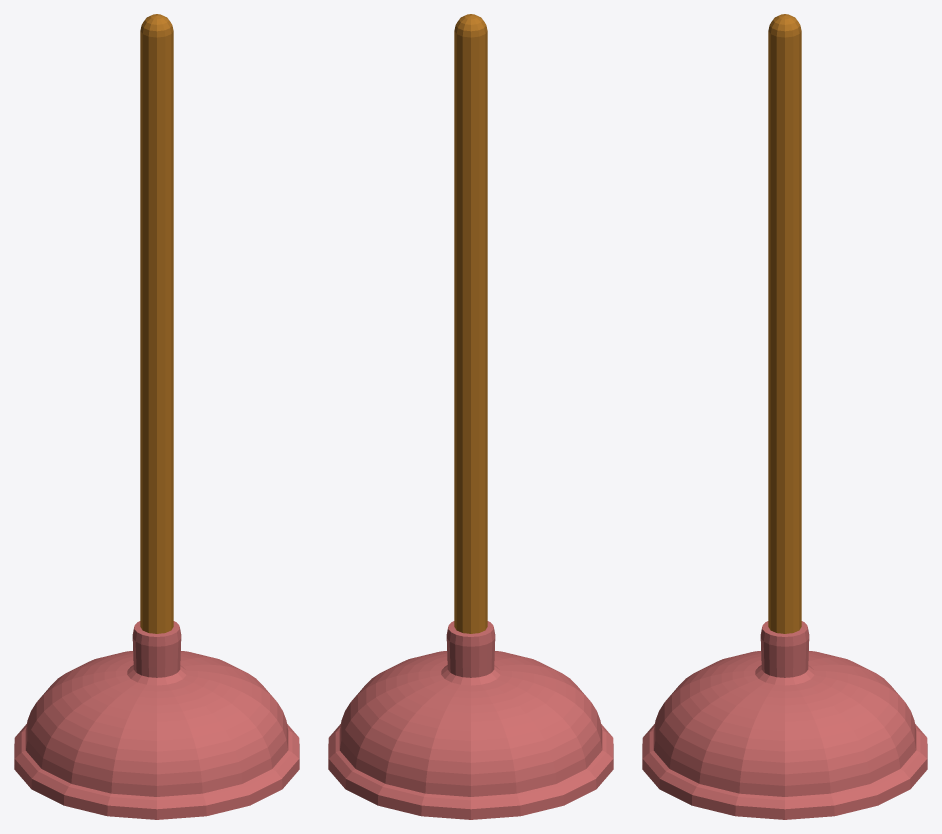
File: Plunger.obj
3 renders of one model, left to right at view 1: azimuth 30°, elevation 25°; view 2: azimuth 150°, elevation 25°; view 3: azimuth 270°, elevation 25°, orthographic.
Visible parts, largest first — view 1: end, Handle; view 2: end, Handle; view 3: end, Handle.
Part boxes in pixels (left/top/right/bottom): end: left=14, top=621, right=299, bottom=819; Handle: left=140, top=14, right=173, bottom=633; end: left=328, top=621, right=613, bottom=819; Handle: left=454, top=14, right=487, bottom=633; end: left=642, top=621, right=927, bottom=819; Handle: left=768, top=14, right=801, bottom=633.
Bounding box in the file's own units: 136 × 385 × 134.
